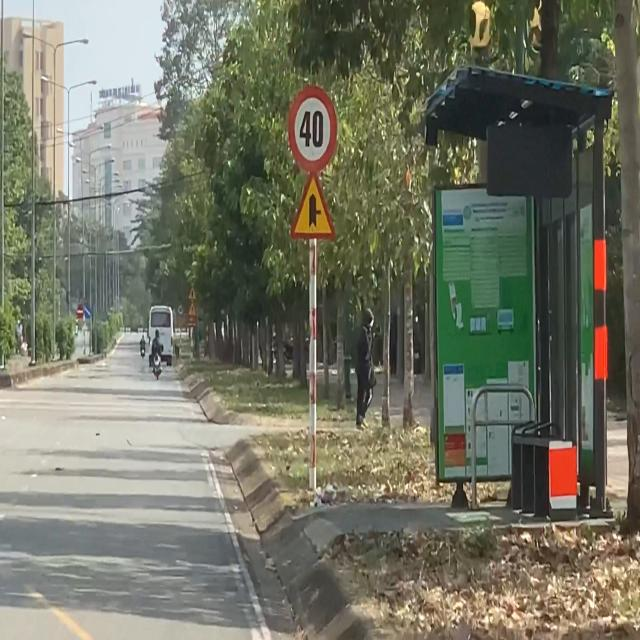Cam nguoc chieu: (76, 306, 84, 318)
Giao voi duong khong uu tien: (287, 167, 337, 244)
Hieu lenh: (84, 306, 91, 319)
Toc do toi da: (286, 75, 335, 167)
